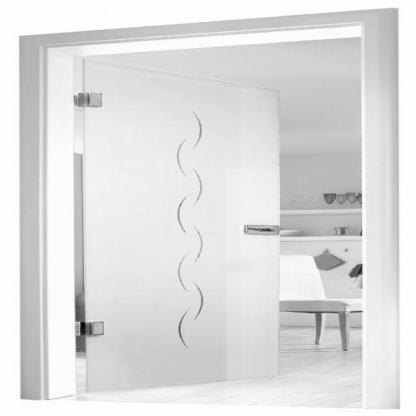door: (20, 2, 410, 409)
